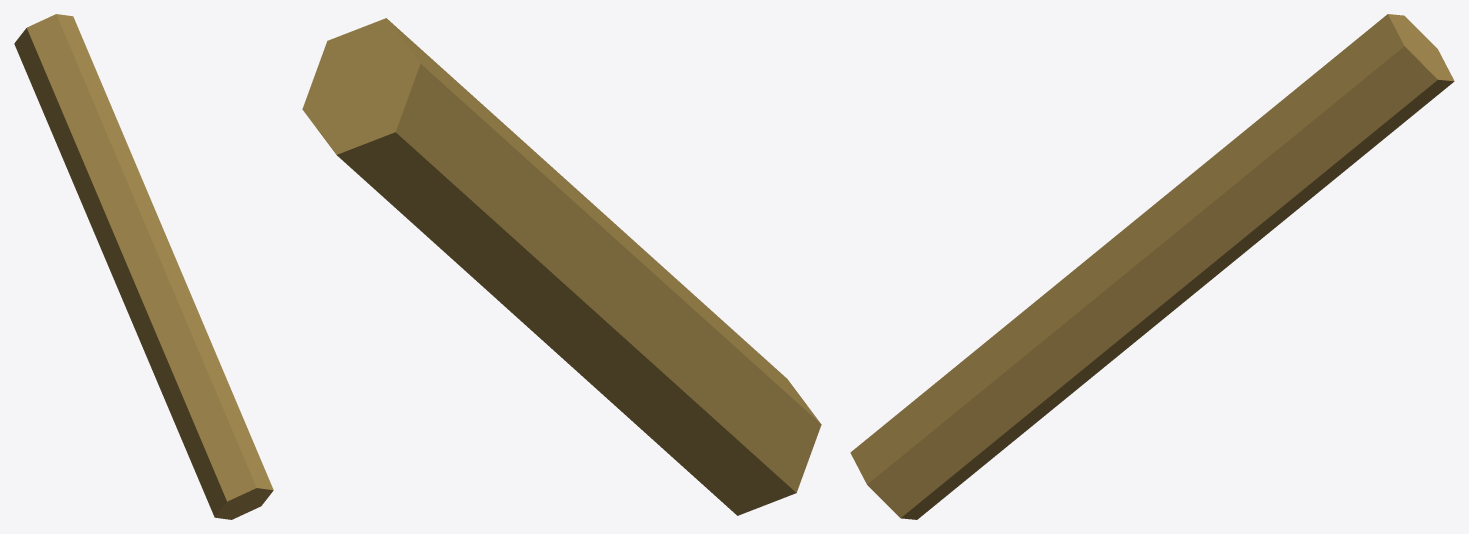
Rendered from VergeRollEave.fbx.
3 views of the same model, side by side, from view 1: azimuth 30°, elevation 25°; view 2: azimuth 150°, elevation 25°; view 3: azimuth 270°, elevation 25° (orthographic). The views are drawn at different scales.
Visible parts, largest first — view 1: Kit_VergeRollEave; view 2: Kit_VergeRollEave; view 3: Kit_VergeRollEave.
Boxes of the visible parts, bbox=[...] form: Kit_VergeRollEave: bbox=[14, 14, 273, 519]; Kit_VergeRollEave: bbox=[302, 18, 821, 515]; Kit_VergeRollEave: bbox=[850, 14, 1454, 519].
Bounding box in the file's own units: 0.1732 × 1.34 × 1.45.
